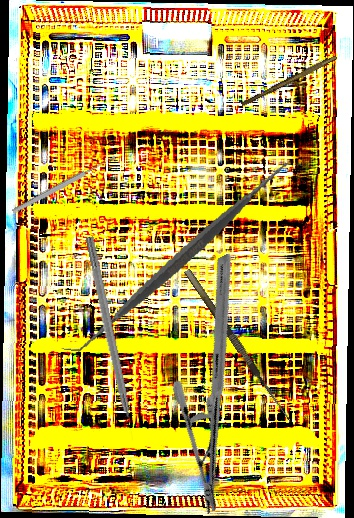Hook Surgical: (184, 262, 301, 426), (82, 236, 138, 442)
Needle Holder: (106, 252, 329, 516)
Scalpel Handle: (240, 52, 338, 109)
Spatula Surgical: (61, 135, 303, 379)
Surgical Spoon: (11, 154, 117, 215)
